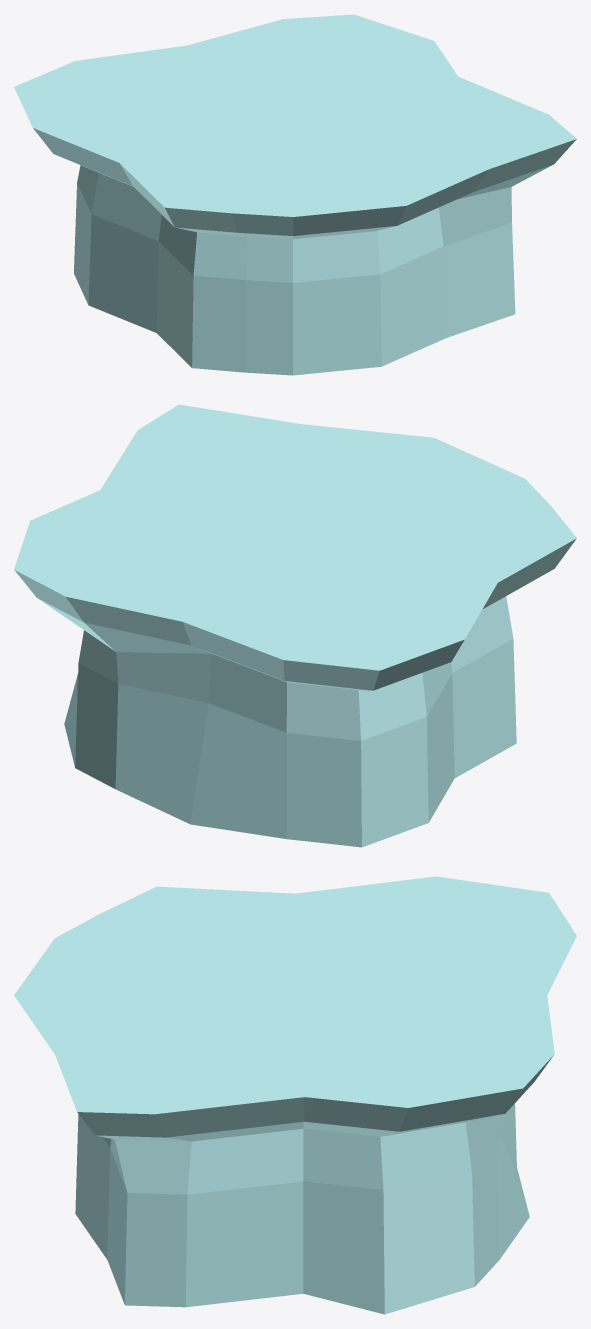
Rendered from snowtable.fbx.
3 renders of one model, top to bottom at view 1: azimuth 30°, elevation 25°; view 2: azimuth 150°, elevation 25°; view 3: azimuth 270°, elevation 25°, orthographic. The views are drawn at different scales.
Parts seen in each view (by area): view 1: snowtable; view 2: snowtable; view 3: snowtable.
Boxes of the visible parts, x1=… form: snowtable: x1=14, y1=14, x2=576, y2=375; snowtable: x1=14, y1=404, x2=576, y2=847; snowtable: x1=14, y1=876, x2=576, y2=1314.
Size of the model in its own units: 372 by 161 by 372.
